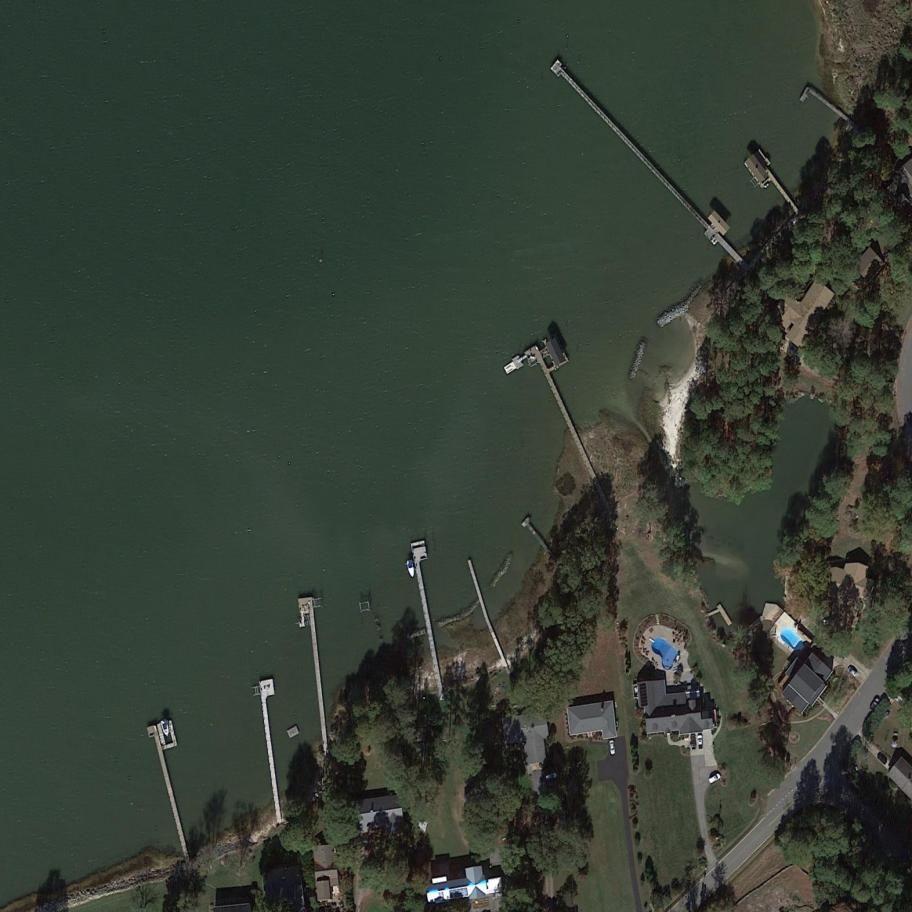ship: (499, 359, 519, 378), (159, 717, 173, 739), (404, 558, 417, 579)
small-vehicle: (706, 771, 723, 786), (868, 696, 882, 713), (890, 727, 901, 747), (607, 738, 617, 756), (845, 665, 858, 678), (544, 772, 560, 782), (696, 734, 705, 751), (689, 734, 697, 749)
